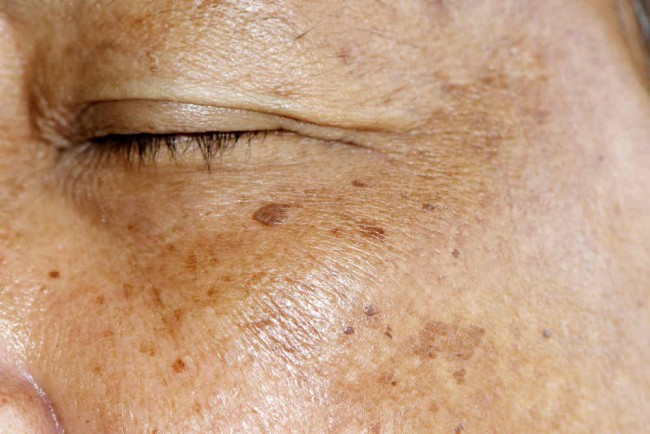Actinic Keratosis: (241, 186, 538, 413)
